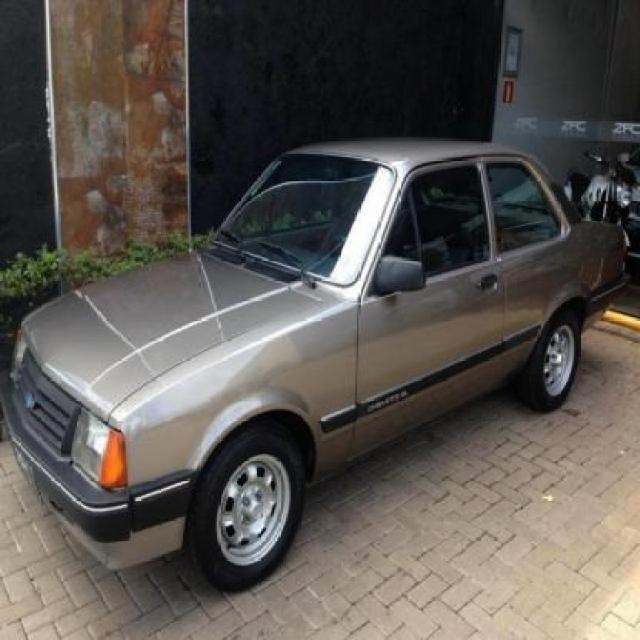car: (4, 146, 635, 594)
